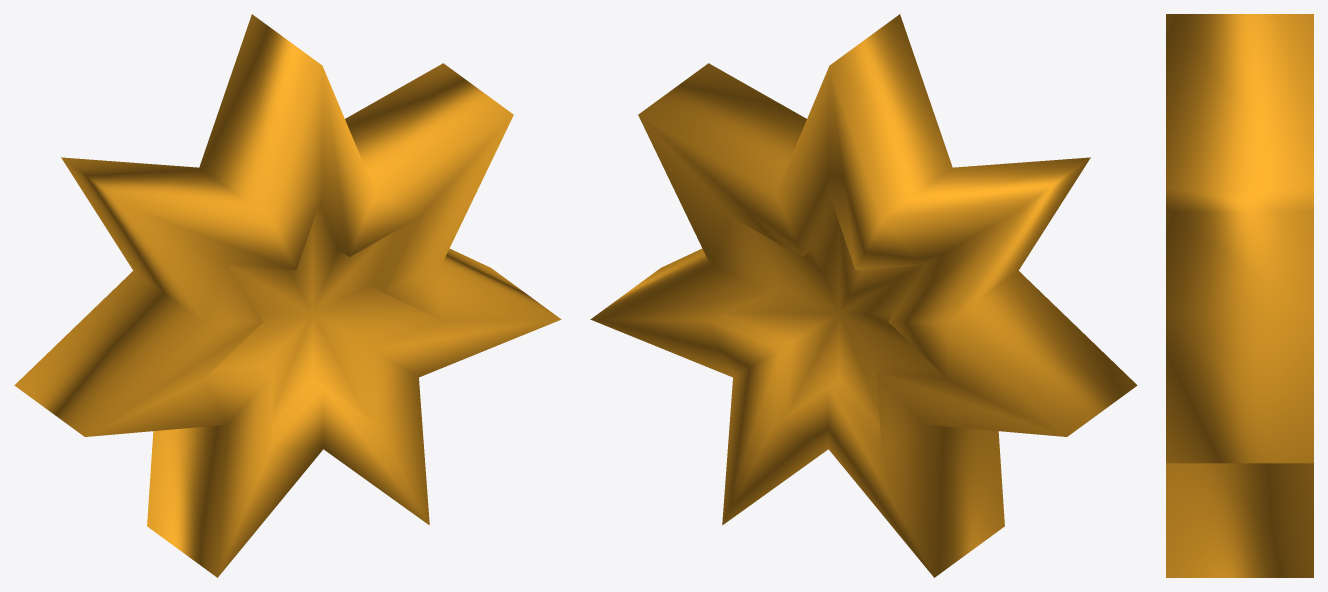
The model's file is 02-STAR-07.fbx.
The picture shows the model from 3 angles, left to right: view 1: azimuth 30°, elevation 25°; view 2: azimuth 150°, elevation 25°; view 3: azimuth 270°, elevation 25°; orthographic projection. The views are drawn at different scales.
Visible parts, largest first — view 1: 02-STAR-07; view 2: 02-STAR-07; view 3: 02-STAR-07.
Boxes of the visible parts, bbox=[...] form: 02-STAR-07: bbox=[14, 14, 561, 577]; 02-STAR-07: bbox=[590, 14, 1137, 577]; 02-STAR-07: bbox=[1166, 14, 1313, 577].
Bounding box in the file's own units: 390 × 380 × 100.
